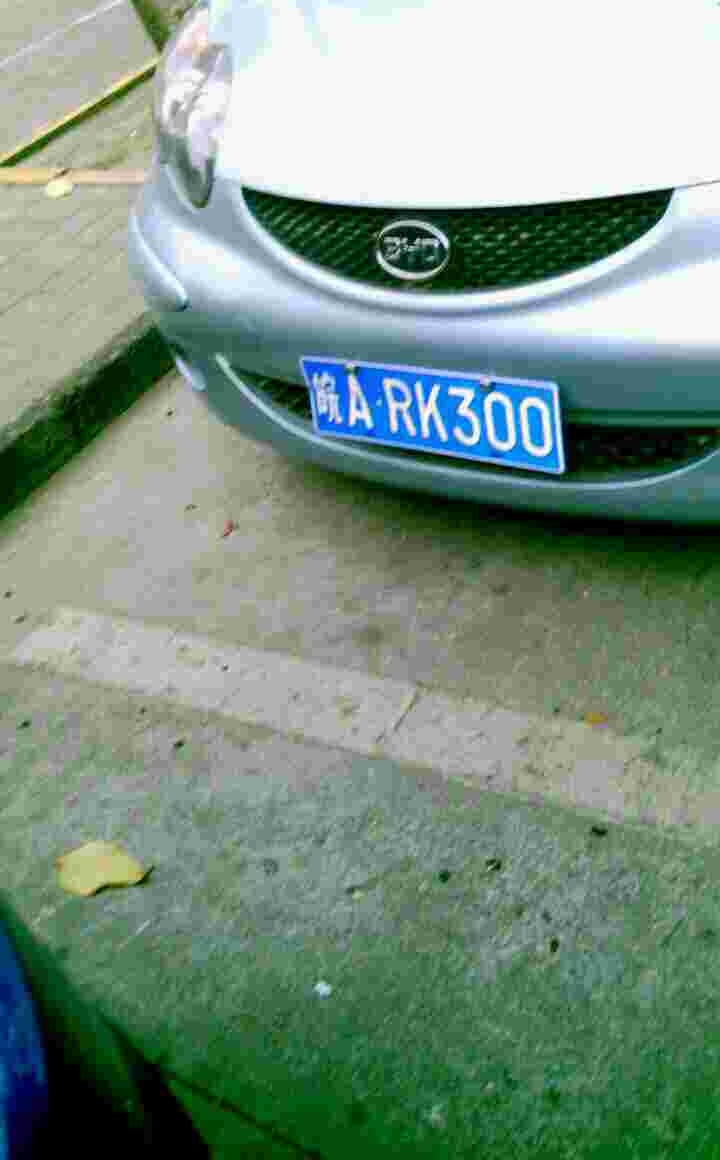license_plate: (307, 360, 551, 474)
